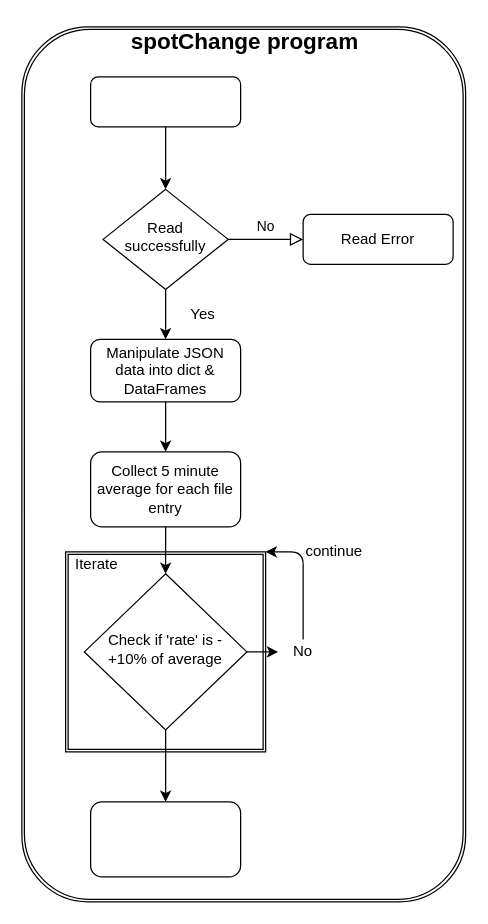
Image size: 488x924. Some labels were removed from this diagram. Here are the shapes that lost their labels. From the top down, the centre of each, then its label:
[165,101]: File read
[165,839]: Convert back to JSON PRINT
